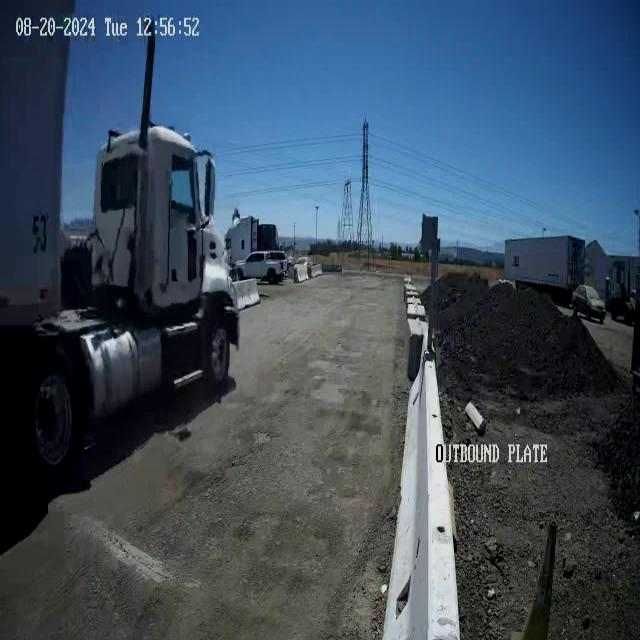TRUCK_CONTAINER: (0, 0, 239, 456)
